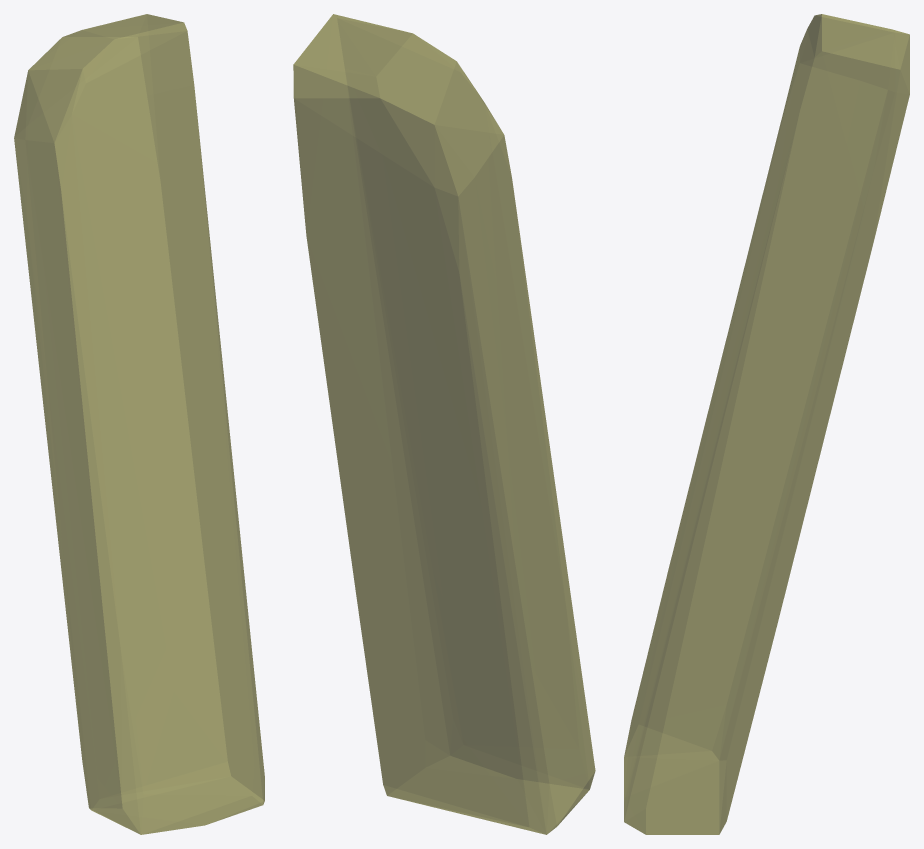
3 renders of one model, left to right at view 1: azimuth 30°, elevation 25°; view 2: azimuth 150°, elevation 25°; view 3: azimuth 270°, elevation 25°, orthographic. The views are drawn at different scales.
Visible parts, largest first — view 1: Shape_IndexedFaceSet.006_Shape_IndexedFaceSet.4679; view 2: Shape_IndexedFaceSet.006_Shape_IndexedFaceSet.4679; view 3: Shape_IndexedFaceSet.006_Shape_IndexedFaceSet.4679.
Boxes of the visible parts, x1,y1,x2,y2 form: Shape_IndexedFaceSet.006_Shape_IndexedFaceSet.4679: (14, 14, 264, 834); Shape_IndexedFaceSet.006_Shape_IndexedFaceSet.4679: (293, 14, 595, 834); Shape_IndexedFaceSet.006_Shape_IndexedFaceSet.4679: (624, 14, 909, 834).
Size of the model in its own units: 0.11 by 0.5193 by 0.1716.
